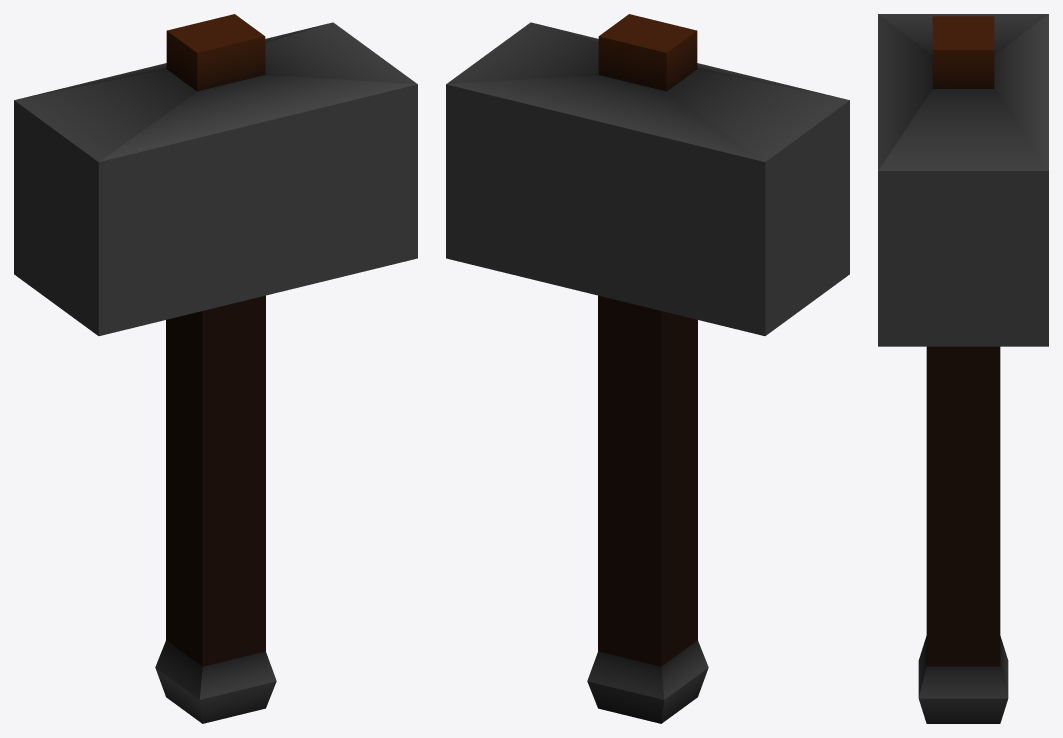
File: hammer.fbx
3 views of the same model, side by side, from view 1: azimuth 30°, elevation 25°; view 2: azimuth 150°, elevation 25°; view 3: azimuth 270°, elevation 25° (orthographic).
Parts seen in each view (by area): view 1: Hammer; view 2: Hammer; view 3: Hammer.
Boxes of the visible parts, <box> form: Hammer: <box>14,14,417,723</box>; Hammer: <box>446,14,849,723</box>; Hammer: <box>878,14,1048,723</box>.
Bounding box in the file's own units: 0.2637 × 0.5283 × 0.1212.
